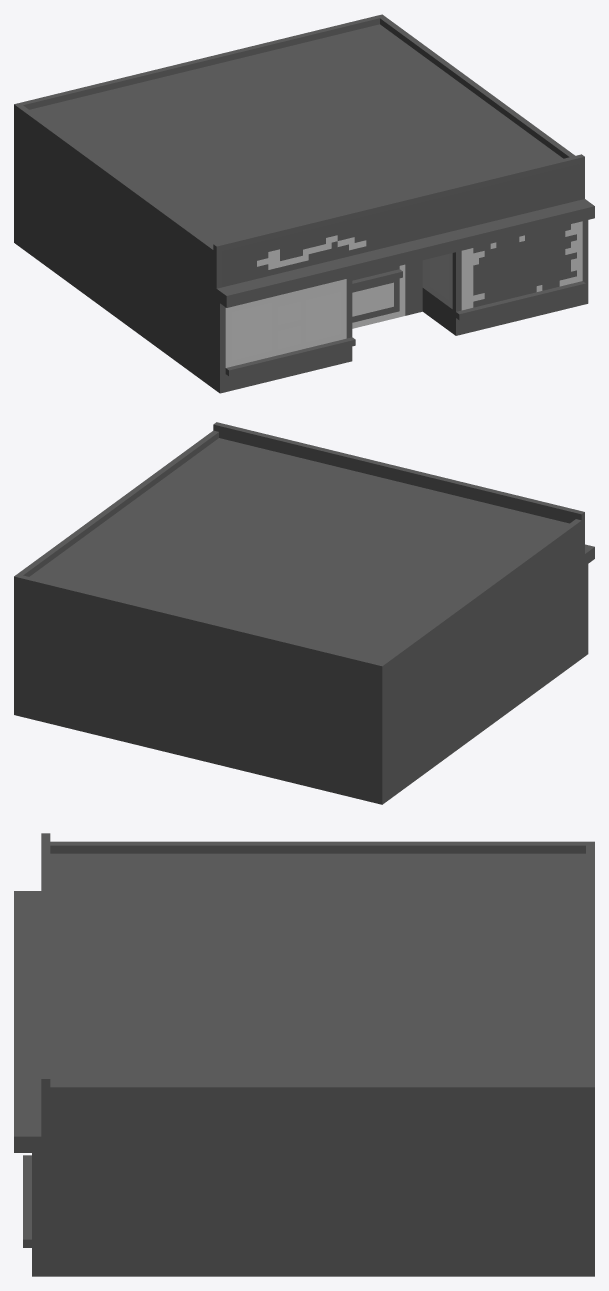
The model's file is bld_store03a.obj.
The picture shows the model from 3 angles, top to bottom: view 1: azimuth 30°, elevation 25°; view 2: azimuth 150°, elevation 25°; view 3: azimuth 270°, elevation 25°; orthographic projection. The views are drawn at different scales.
Size of the model in its own units: 64 by 24 by 64.
